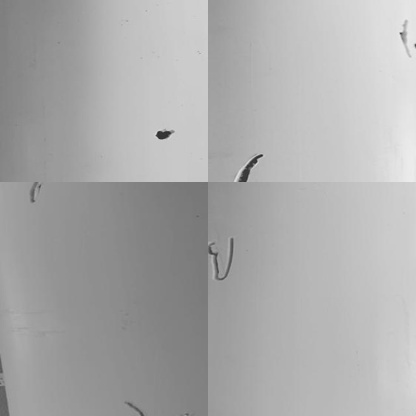fengxi: (207, 233, 239, 285), (125, 398, 142, 413)
kongdong: (234, 153, 261, 185), (156, 128, 173, 144)
